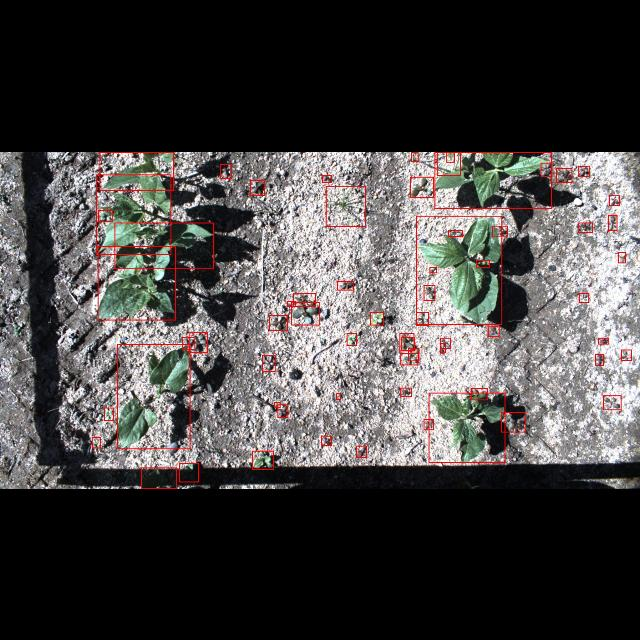crop: (416, 216, 502, 324), (118, 344, 190, 448), (96, 174, 172, 254), (98, 246, 176, 320), (429, 392, 505, 462), (114, 222, 213, 268), (100, 151, 174, 189), (142, 468, 176, 488), (446, 151, 454, 161)
weed: (434, 151, 552, 207), (326, 185, 364, 225), (292, 302, 320, 324), (438, 152, 460, 174), (501, 412, 525, 432), (411, 176, 434, 196), (179, 462, 199, 482), (252, 451, 274, 469), (189, 332, 207, 352), (293, 292, 315, 306), (269, 314, 287, 330), (603, 395, 621, 409), (400, 334, 414, 351), (262, 355, 276, 371), (556, 167, 572, 181), (250, 180, 264, 194), (220, 162, 232, 178), (471, 388, 487, 400), (401, 336, 415, 349), (400, 354, 418, 364), (98, 209, 112, 221), (337, 280, 353, 290), (424, 284, 434, 300), (492, 225, 508, 235), (371, 312, 384, 324), (540, 162, 552, 175), (182, 337, 194, 349), (416, 312, 428, 324), (278, 404, 288, 418), (579, 222, 593, 232), (608, 214, 616, 230), (347, 333, 357, 345), (356, 445, 366, 457), (409, 348, 419, 360), (105, 408, 114, 420), (321, 436, 331, 446), (424, 419, 434, 429), (440, 338, 450, 348), (579, 165, 589, 175), (610, 195, 620, 205), (579, 292, 589, 302), (621, 350, 631, 360), (488, 326, 498, 336), (401, 388, 412, 397), (92, 437, 100, 448), (449, 230, 463, 236), (322, 174, 332, 182), (595, 354, 603, 364), (618, 252, 626, 262), (476, 260, 489, 266), (286, 300, 296, 306), (598, 337, 608, 343), (440, 343, 446, 352), (412, 152, 418, 160), (429, 266, 436, 272), (274, 402, 280, 408), (336, 393, 340, 399)
